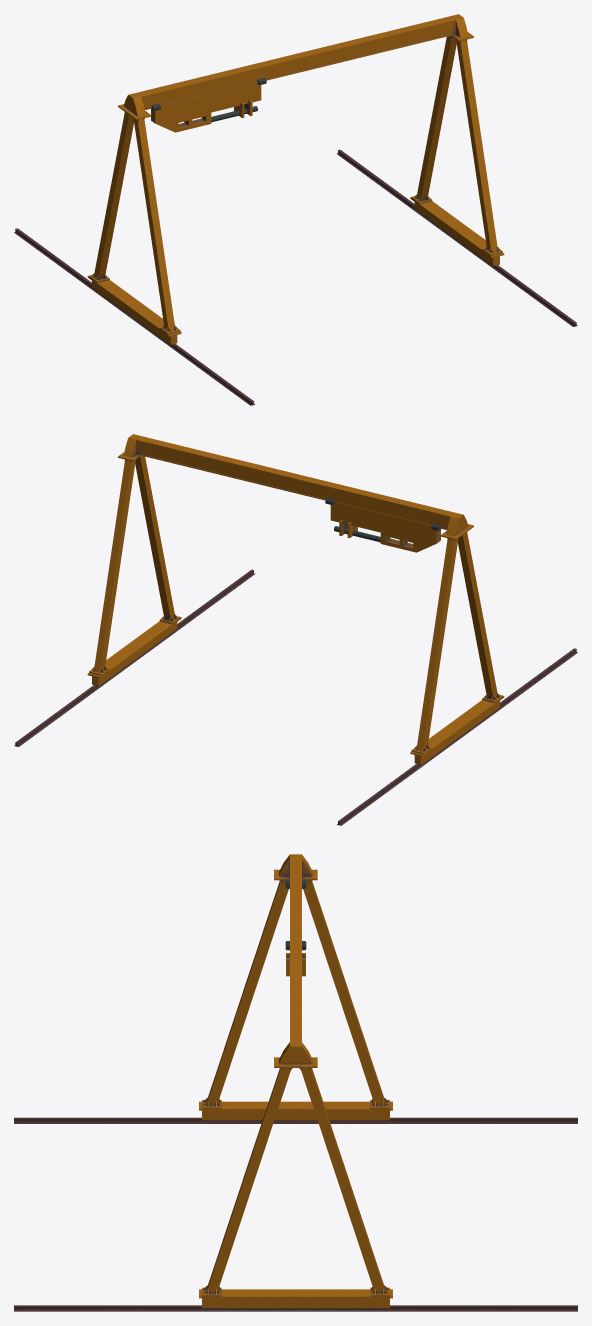
Rendered from LWZHGK_GuiDaoDiao_01.FBX.
The picture shows the model from 3 angles, top to bottom: view 1: azimuth 30°, elevation 25°; view 2: azimuth 150°, elevation 25°; view 3: azimuth 270°, elevation 25°; orthographic projection. The views are drawn at different scales.
Parts seen in each view (by area): view 1: LWZHGK_GuiDaoDiao_017, LWZHGK_GuiDaoDiao_004, LWZHGK_GuiDaoDiao_014, LWZHGK_GuiDaoDiao_010, LWZHGK_GuiDaoDiao_015, LWZHGK_GuiDaoDiao_009, LWZHGK_GuiDaoDiao_013, LWZHGK_GuiDaoDiao_005, LWZHGK_GuiDaoDiao_002, LWZHGK_GuiDaoDiao_001, LWZHGK_GuiDaoDiao_018, LWZHGK_GuiDaoDiao_019 (+1 smaller); view 2: LWZHGK_GuiDaoDiao_017, LWZHGK_GuiDaoDiao_004, LWZHGK_GuiDaoDiao_009, LWZHGK_GuiDaoDiao_015, LWZHGK_GuiDaoDiao_014, LWZHGK_GuiDaoDiao_010, LWZHGK_GuiDaoDiao_013, LWZHGK_GuiDaoDiao_005, LWZHGK_GuiDaoDiao_019, LWZHGK_GuiDaoDiao_018, LWZHGK_GuiDaoDiao_001, LWZHGK_GuiDaoDiao_002 (+1 smaller); view 3: LWZHGK_GuiDaoDiao_005, LWZHGK_GuiDaoDiao_013, LWZHGK_GuiDaoDiao_009, LWZHGK_GuiDaoDiao_010, LWZHGK_GuiDaoDiao_015, LWZHGK_GuiDaoDiao_014, LWZHGK_GuiDaoDiao_017, LWZHGK_GuiDaoDiao_018, LWZHGK_GuiDaoDiao_019, LWZHGK_GuiDaoDiao_001, LWZHGK_GuiDaoDiao_002, LWZHGK_GuiDaoDiao_006 (+3 smaller).
Part boxes in pixels (left/top/right/bottom): LWZHGK_GuiDaoDiao_017: left=136, top=16, right=455, bottom=110; LWZHGK_GuiDaoDiao_004: left=151, top=78, right=266, bottom=132; LWZHGK_GuiDaoDiao_014: left=133, top=118, right=180, bottom=334; LWZHGK_GuiDaoDiao_010: left=456, top=39, right=502, bottom=255; LWZHGK_GuiDaoDiao_015: left=89, top=112, right=133, bottom=282; LWZHGK_GuiDaoDiao_009: left=411, top=35, right=456, bottom=203; LWZHGK_GuiDaoDiao_013: left=87, top=275, right=181, bottom=344; LWZHGK_GuiDaoDiao_005: left=410, top=197, right=504, bottom=265; LWZHGK_GuiDaoDiao_002: left=494, top=265, right=577, bottom=326; LWZHGK_GuiDaoDiao_001: left=172, top=343, right=254, bottom=405; LWZHGK_GuiDaoDiao_018: left=14, top=228, right=93, bottom=289; LWZHGK_GuiDaoDiao_019: left=337, top=149, right=416, bottom=211; LWZHGK_GuiDaoDiao_017: left=136, top=436, right=455, bottom=529; LWZHGK_GuiDaoDiao_004: left=325, top=498, right=440, bottom=552; LWZHGK_GuiDaoDiao_009: left=89, top=459, right=135, bottom=675; LWZHGK_GuiDaoDiao_015: left=411, top=538, right=458, bottom=754; LWZHGK_GuiDaoDiao_014: left=458, top=532, right=502, bottom=702; LWZHGK_GuiDaoDiao_010: left=135, top=455, right=180, bottom=623; LWZHGK_GuiDaoDiao_013: left=410, top=695, right=504, bottom=764; LWZHGK_GuiDaoDiao_005: left=87, top=617, right=181, bottom=685; LWZHGK_GuiDaoDiao_019: left=14, top=685, right=97, bottom=746; LWZHGK_GuiDaoDiao_018: left=337, top=764, right=419, bottom=825; LWZHGK_GuiDaoDiao_001: left=497, top=648, right=577, bottom=710; LWZHGK_GuiDaoDiao_002: left=175, top=569, right=254, bottom=631; LWZHGK_GuiDaoDiao_005: left=199, top=1289, right=392, bottom=1307; LWZHGK_GuiDaoDiao_013: left=199, top=1101, right=392, bottom=1120; LWZHGK_GuiDaoDiao_009: left=299, top=1068, right=389, bottom=1296; LWZHGK_GuiDaoDiao_010: left=202, top=1068, right=292, bottom=1296; LWZHGK_GuiDaoDiao_015: left=303, top=880, right=389, bottom=1108; LWZHGK_GuiDaoDiao_014: left=202, top=880, right=288, bottom=1108; LWZHGK_GuiDaoDiao_017: left=290, top=859, right=301, bottom=1041; LWZHGK_GuiDaoDiao_018: left=390, top=1117, right=577, bottom=1123; LWZHGK_GuiDaoDiao_019: left=390, top=1305, right=577, bottom=1311; LWZHGK_GuiDaoDiao_001: left=14, top=1117, right=201, bottom=1123; LWZHGK_GuiDaoDiao_002: left=14, top=1305, right=201, bottom=1311; LWZHGK_GuiDaoDiao_006: left=274, top=1042, right=317, bottom=1067.
Bounding box in the file's own units: 1900 × 1199 × 2305.
